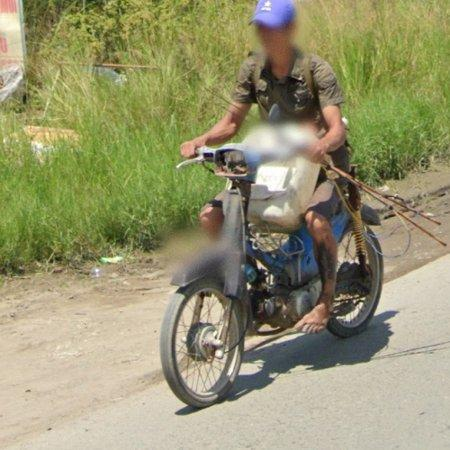motorcycles: (161, 145, 323, 409), (325, 166, 385, 338)
